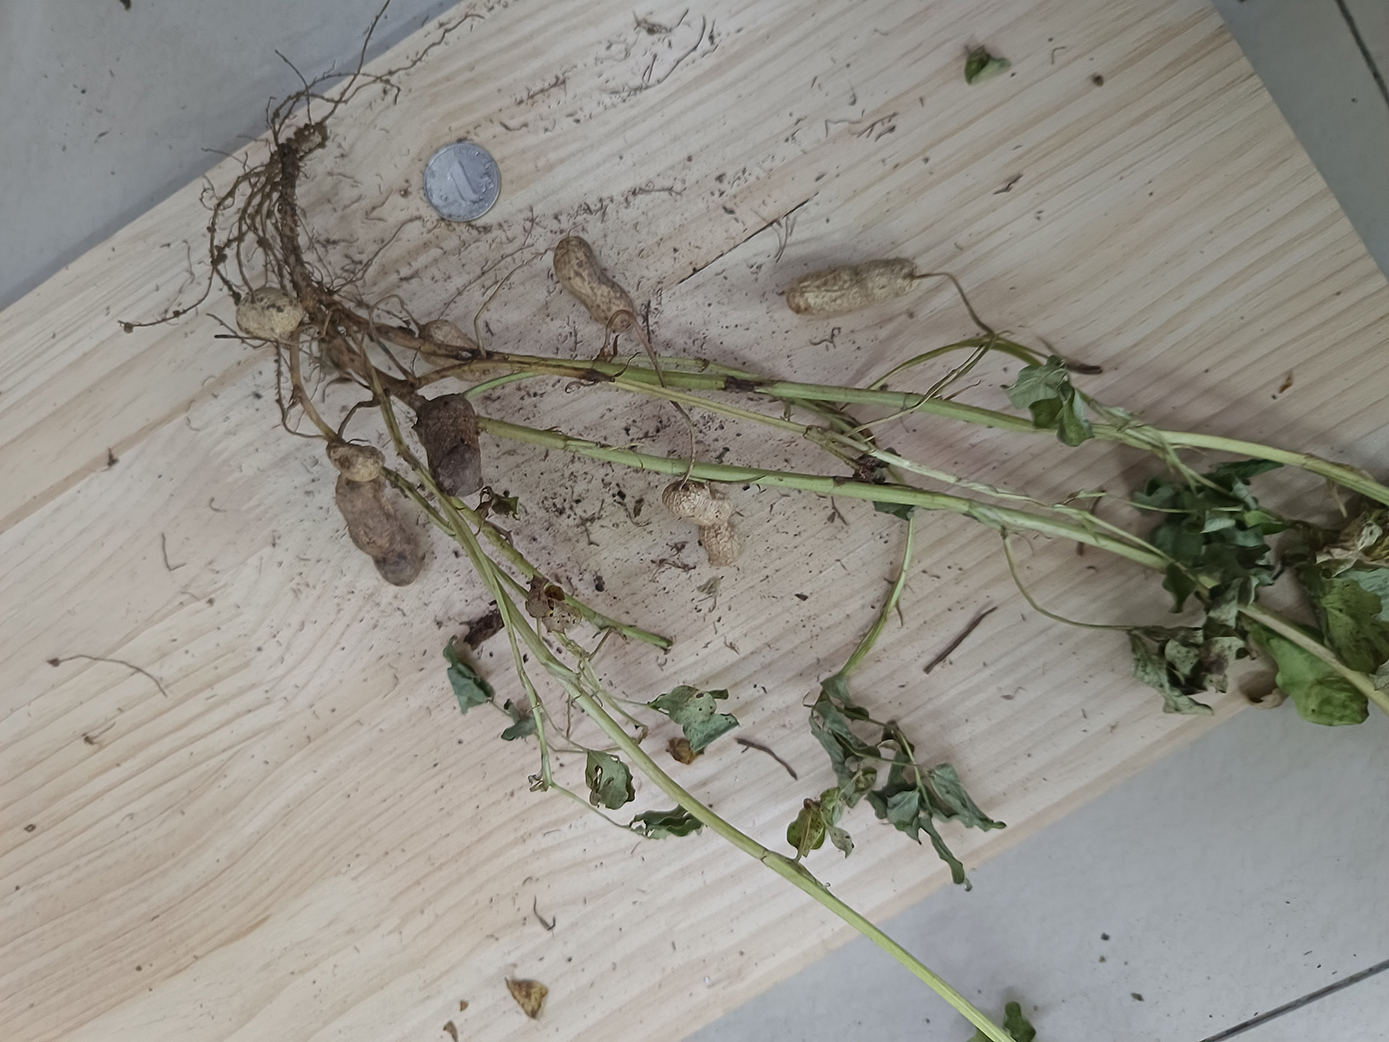h: (554, 238, 635, 333), (786, 259, 918, 315), (665, 481, 741, 566), (419, 320, 510, 381), (236, 286, 305, 336), (325, 440, 385, 483)
l: (338, 481, 423, 586), (417, 393, 483, 497)
